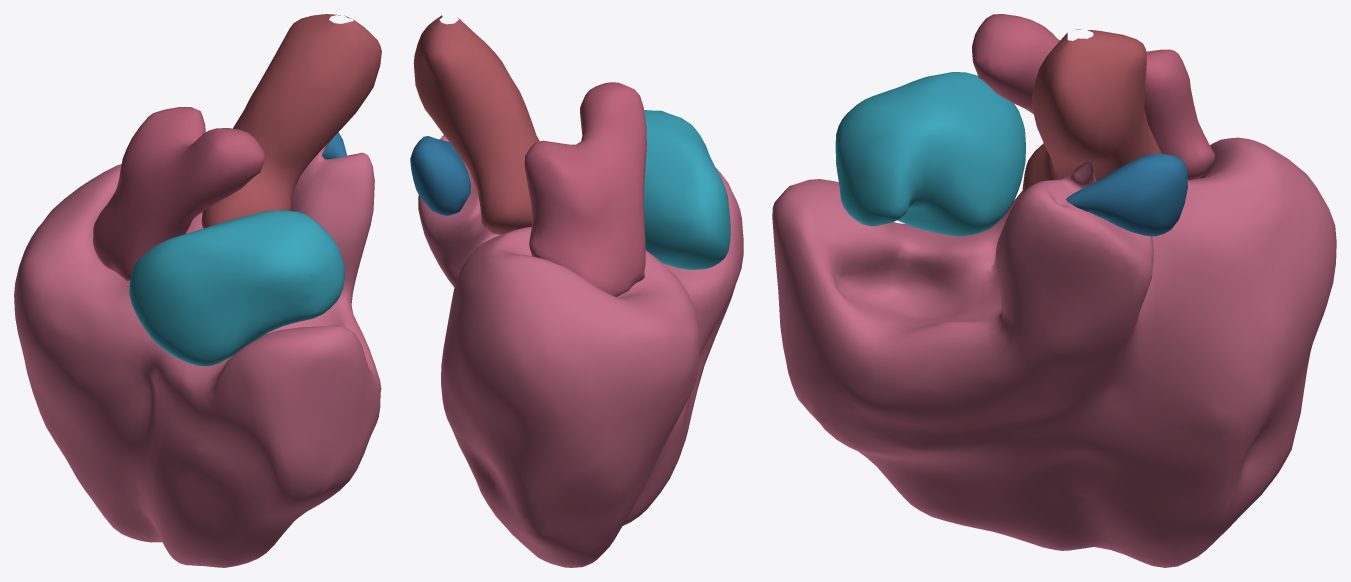
The model's file is frame_3.glb.
3 renders of one model, left to right at view 1: azimuth 30°, elevation 25°; view 2: azimuth 150°, elevation 25°; view 3: azimuth 270°, elevation 25°, orthographic. The views are drawn at different scales.
Visible parts, largest first — view 1: Renderer Node; view 2: Renderer Node; view 3: Renderer Node.
Part boxes in pixels (left/top/right/bottom): Renderer Node: left=14, top=14, right=381, bottom=567; Renderer Node: left=410, top=15, right=743, bottom=567; Renderer Node: left=772, top=14, right=1336, bottom=567.
Bounding box in the file's own units: 103 × 159 × 130.
